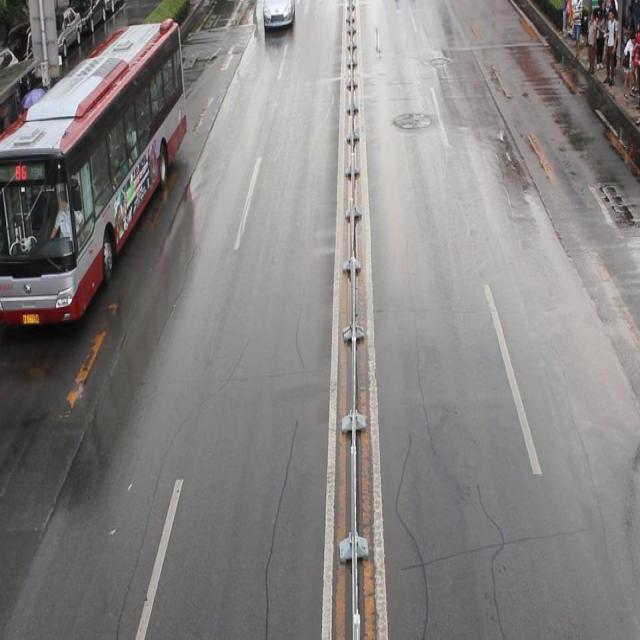car: (264, 1, 293, 29)
van: (1, 17, 186, 321)
